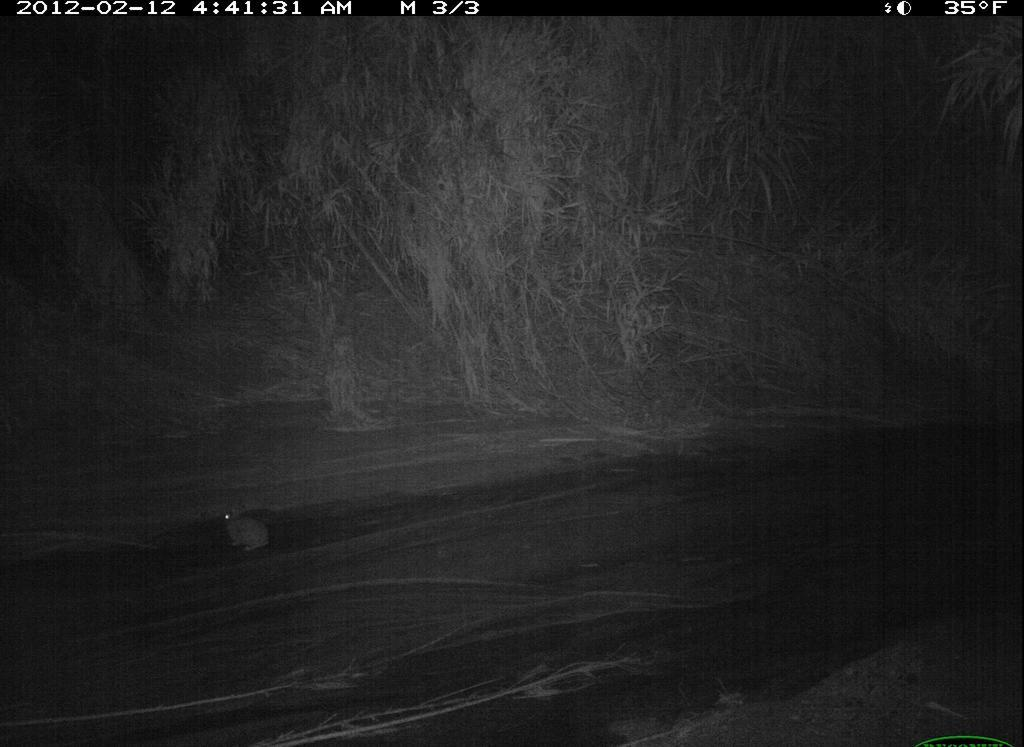rabbit: (212, 490, 284, 569)
